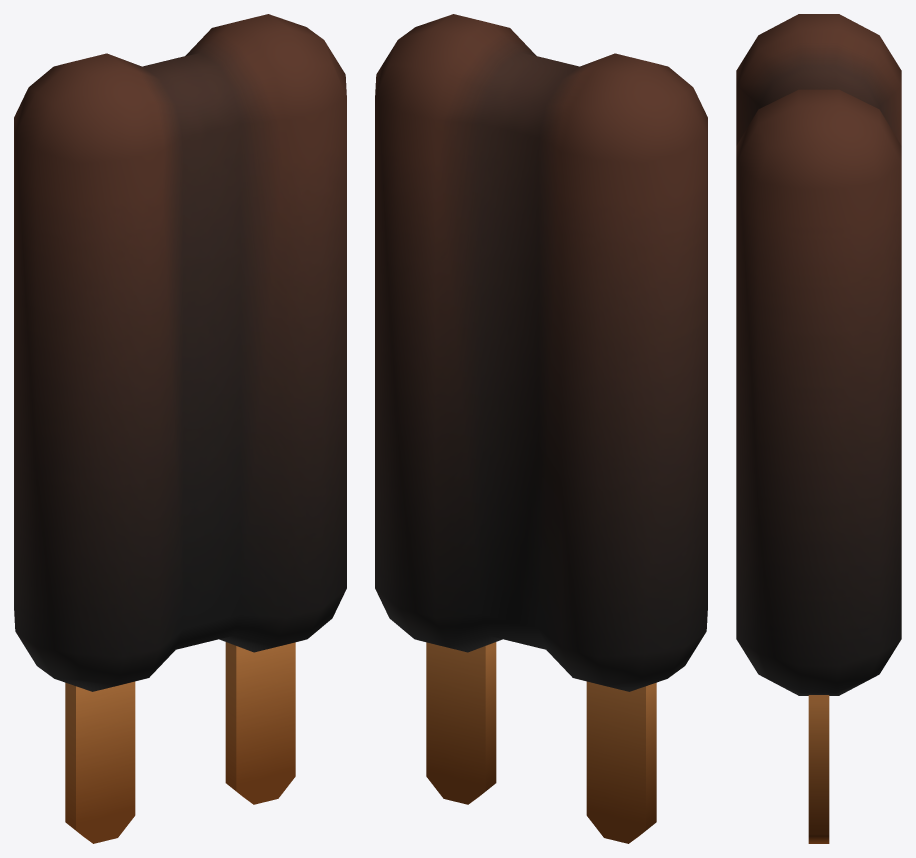
File: m_DoublePopsicle04.fbx
The picture shows the model from 3 angles, left to right: view 1: azimuth 30°, elevation 25°; view 2: azimuth 150°, elevation 25°; view 3: azimuth 270°, elevation 25°; orthographic projection. The views are drawn at different scales.
Visible parts, largest first — view 1: m_DoublePopsicle04_L, m_DoublePopsicle04_R; view 2: m_DoublePopsicle04_L, m_DoublePopsicle04_R; view 3: m_DoublePopsicle04_R, m_DoublePopsicle04_L.
Part boxes in pixels (x1=…): m_DoublePopsicle04_L: x1=14, y1=53, x2=211, y2=843; m_DoublePopsicle04_R: x1=159, y1=14, x2=346, y2=804; m_DoublePopsicle04_L: x1=510, y1=53, x2=707, y2=843; m_DoublePopsicle04_R: x1=375, y1=14, x2=562, y2=804; m_DoublePopsicle04_R: x1=736, y1=80, x2=901, y2=843; m_DoublePopsicle04_L: x1=736, y1=14, x2=901, y2=145.
Size of the model in its own units: 9.64 by 22.99 by 4.64.
